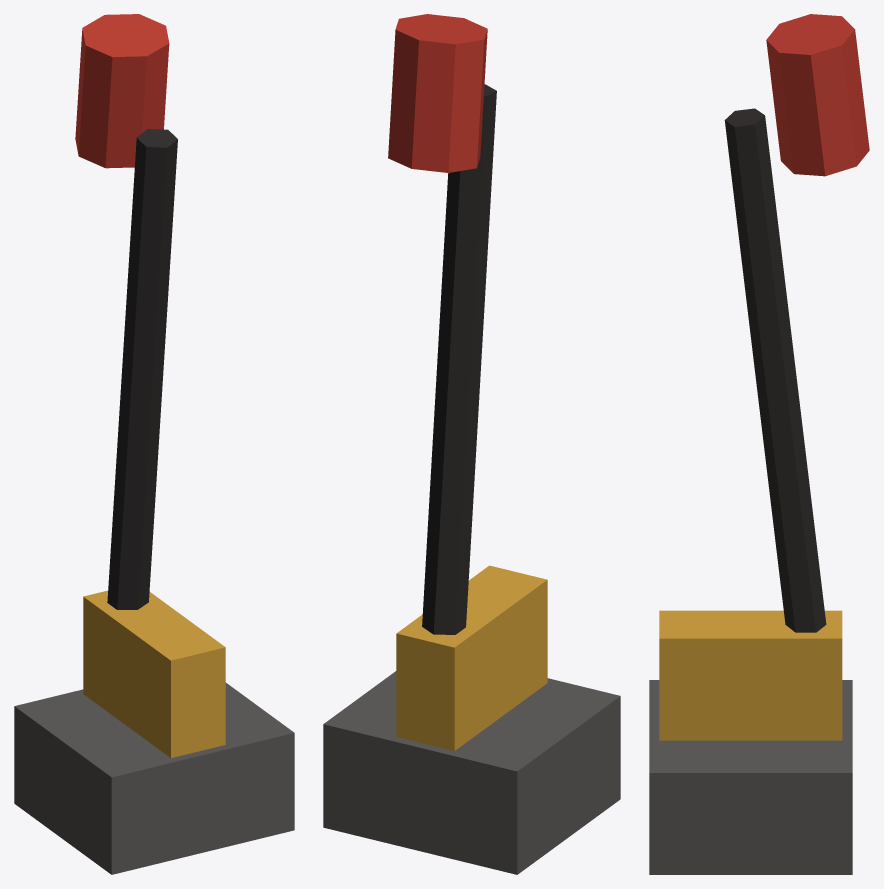
The model's file is TrainLever.fbx.
The picture shows the model from 3 angles, left to right: view 1: azimuth 30°, elevation 25°; view 2: azimuth 150°, elevation 25°; view 3: azimuth 270°, elevation 25°; orthographic projection. The views are drawn at different scales.
Visible parts, largest first — view 1: TrainLever; view 2: TrainLever; view 3: TrainLever.
Boxes of the visible parts, x1,y1,x2,y2 form: TrainLever: (14,14,294,874); TrainLever: (323,14,620,874); TrainLever: (649,14,869,874).
Bounding box in the file's own units: 1 × 4 × 1.
